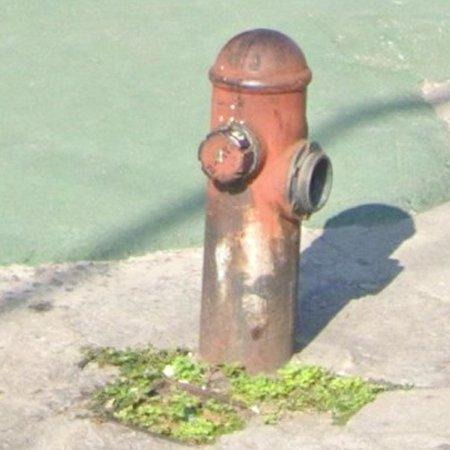a fire hydrant: (199, 29, 333, 373)
